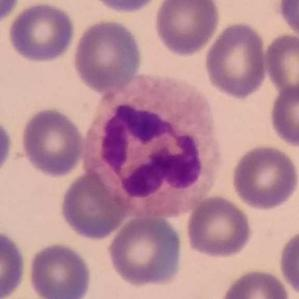Neutrophil: (84, 74, 224, 216)
RBC: (105, 213, 185, 289), (58, 166, 134, 242), (70, 18, 145, 93), (202, 20, 270, 100), (18, 105, 86, 179), (229, 142, 298, 212), (183, 193, 254, 260), (5, 0, 78, 64), (152, 0, 222, 58), (26, 240, 94, 299), (262, 31, 299, 99), (219, 267, 292, 299), (267, 81, 299, 149), (0, 228, 28, 299), (276, 226, 299, 297), (85, 0, 163, 14), (0, 116, 15, 180), (276, 0, 299, 41), (0, 0, 22, 25)
